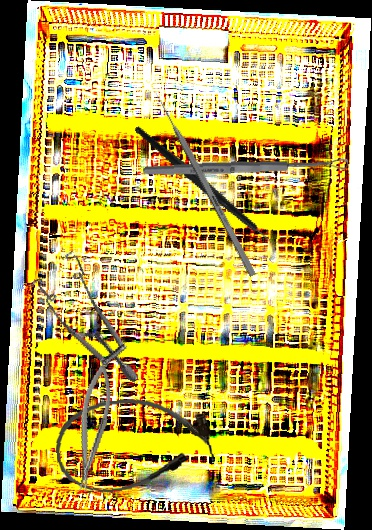Cannula: (51, 391, 217, 497)
Chopper: (134, 90, 288, 282)
Needle Holder: (65, 357, 120, 494)
Pusher: (151, 88, 258, 278)
Speculum: (11, 240, 176, 384)
Surgical Spoon: (142, 157, 349, 178)
